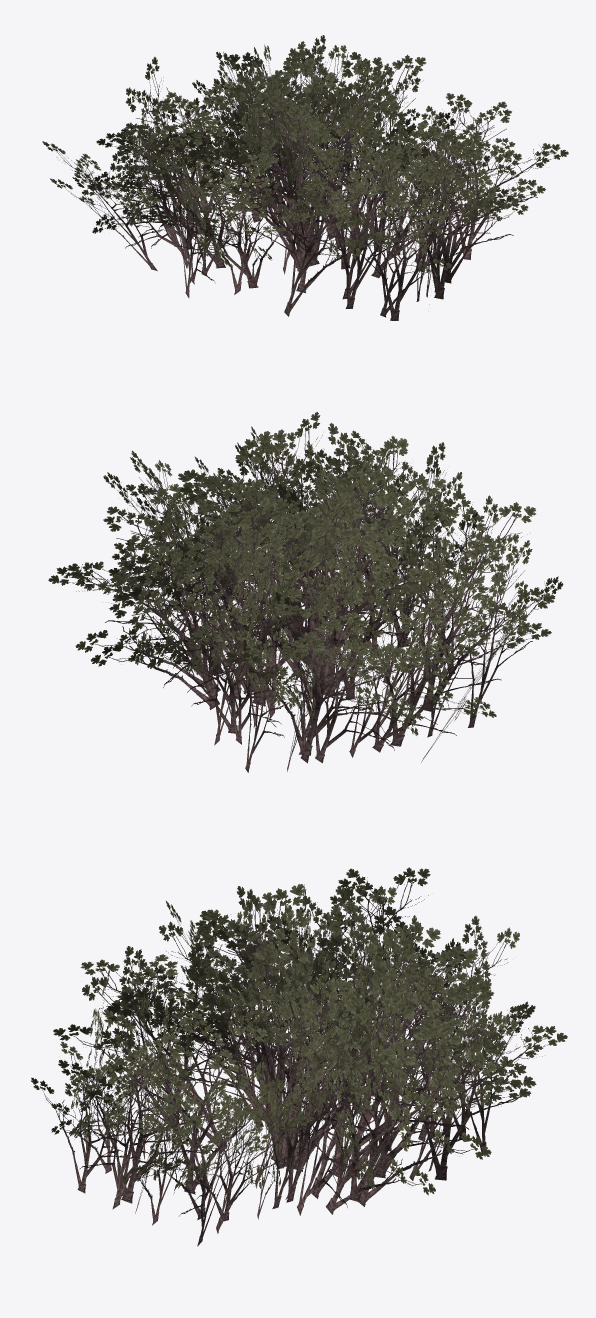
The model's file is p_xz_guanmu01_01.FBX.
3 renders of one model, top to bottom at view 1: azimuth 30°, elevation 25°; view 2: azimuth 150°, elevation 25°; view 3: azimuth 270°, elevation 25°, orthographic. The views are drawn at different scales.
Parts seen in each view (by area): view 1: p_xz_guanmu01_01; view 2: p_xz_guanmu01_01; view 3: p_xz_guanmu01_01.
Boxes of the visible parts, x1,y1,x2,y2 form: p_xz_guanmu01_01: [42, 35, 568, 320]; p_xz_guanmu01_01: [48, 412, 563, 772]; p_xz_guanmu01_01: [31, 867, 567, 1246].
Size of the model in its own units: 9.28 by 5.41 by 7.97.
